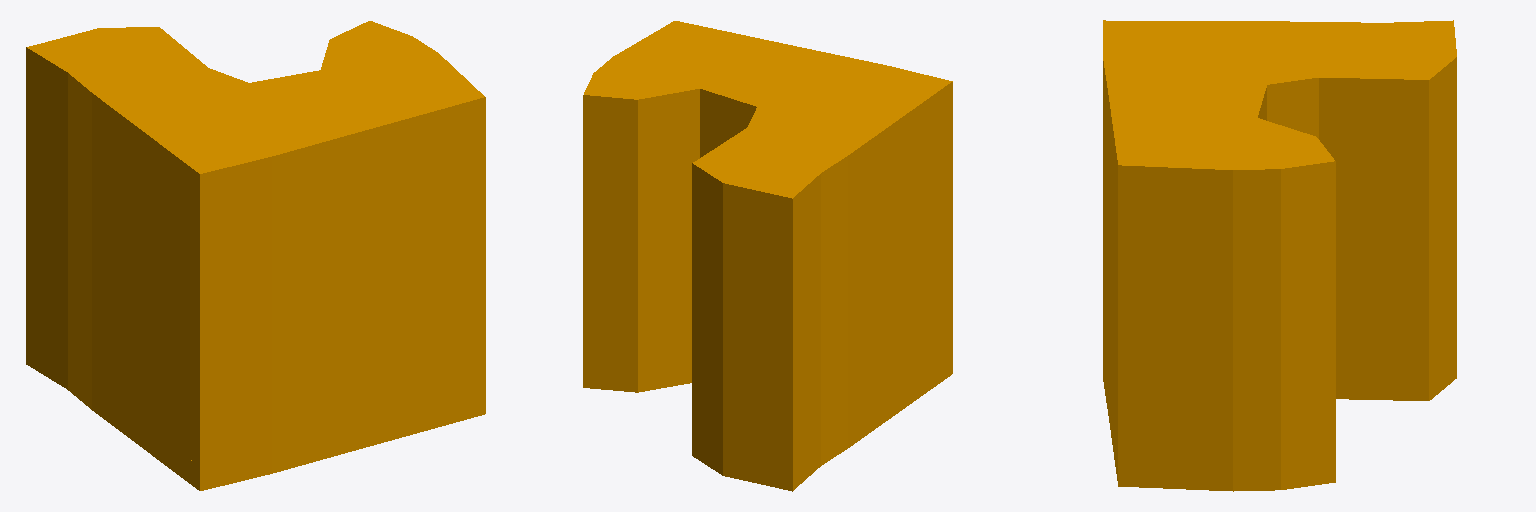
URDF robot description (object):
<?xml version="1.0"?>
<robot name="object">
  <link name="object">
    <visual>
      <origin xyz="0 0 0"/>
      <geometry>
        <mesh filename="meshes/polygon/poly_81_s.obj" scale=".03 .03 .03"/>
      </geometry>
    </visual>
    <collision>
  <origin xyz="0 0 0"/>
  <geometry>
    <mesh filename="meshes/polygon/poly_81_s_0decompose.obj" scale=".03 .03 .03"/>
<!--          <mesh filename="meshes/custom/obj0_ball.obj" scale=".05 .05 .05"/>-->
  </geometry>
</collision><collision>
  <origin xyz="0 0 0"/>
  <geometry>
    <mesh filename="meshes/polygon/poly_81_s_1decompose.obj" scale=".03 .03 .03"/>
<!--          <mesh filename="meshes/custom/obj0_ball.obj" scale=".05 .05 .05"/>-->
  </geometry>
</collision>

<!--    <collision>-->
<!--      <origin xyz="0 0 0"/>-->
<!--      <geometry>-->
<!--        <mesh filename="meshes/polygon/poly_81_s.obj" scale=".03 .03 .03"/>-->
<!--&lt;!&ndash;          <mesh filename="meshes/custom/obj0_ball.obj" scale=".05 .05 .05"/>&ndash;&gt;-->
<!--      </geometry>-->
<!--    </collision>-->
    <inertial>
      <density value="1000.0"/>
    </inertial>
  </link>
</robot>

--- Facts derived from the render (not from the file) ---
Views: 3 orthographic renders of the robot side by side, from view 1: azimuth 30°, elevation 25°; view 2: azimuth 150°, elevation 25°; view 3: azimuth 270°, elevation 25°.
Robot: object — 1 links, 0 joints (none); root link object; default pose: every joint at zero.
Links seen in each view (by area): view 1: object; view 2: object; view 3: object.
Boxes of the visible links, <box> form: object: <box>26,21,485,490</box>; object: <box>583,21,952,491</box>; object: <box>1103,20,1456,491</box>.
Bounding box of the posed robot: 0.06 × 0.06 × 0.06 m (x, y, z).
Meshes: 1 distinct files referenced, 1 mesh visuals loaded (1 OBJ).
